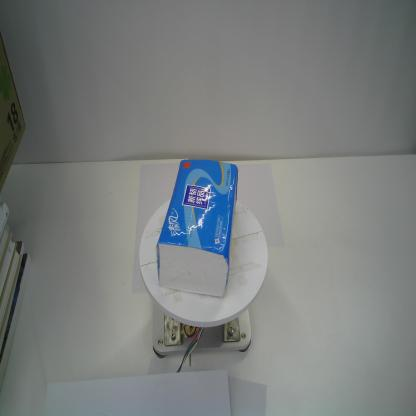Tissue: (156, 159, 239, 298)
